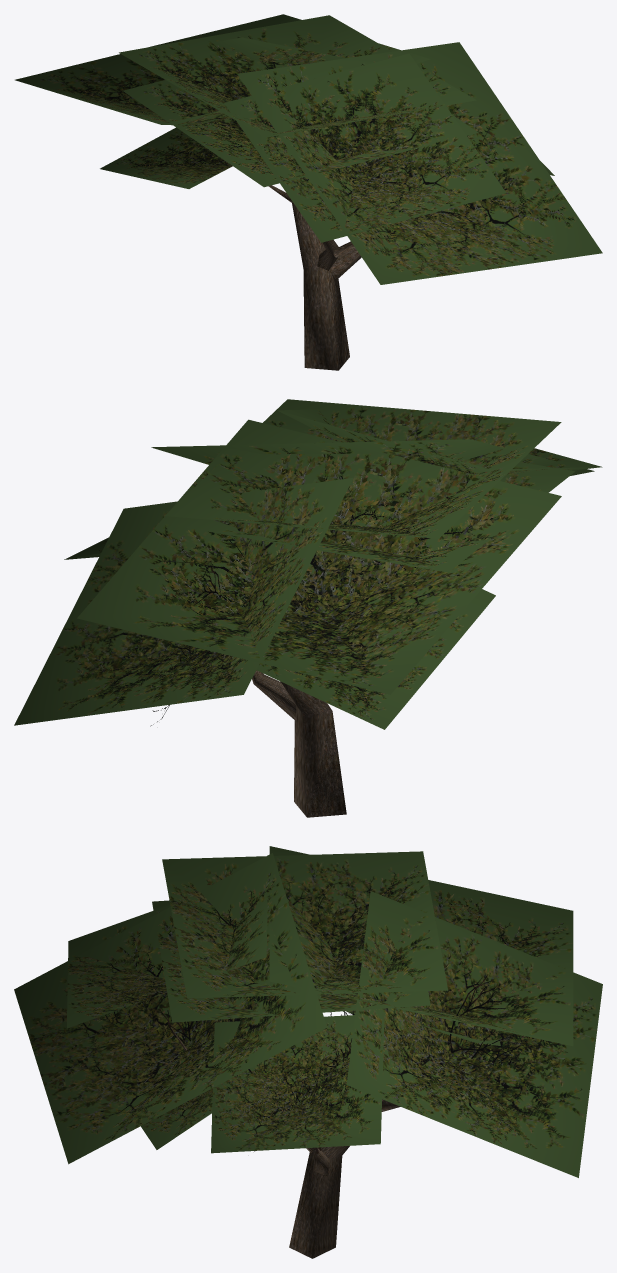
File: decd_mkpodtree_l1.fbx
The picture shows the model from 3 angles, top to bottom: view 1: azimuth 30°, elevation 25°; view 2: azimuth 150°, elevation 25°; view 3: azimuth 270°, elevation 25°; orthographic projection. The views are drawn at different scales.
Visible parts, largest first — view 1: mesh_node; view 2: mesh_node; view 3: mesh_node.
Boxes of the visible parts, left/top/right/bottom form: mesh_node: left=15, top=14, right=602, bottom=370; mesh_node: left=14, top=399, right=602, bottom=817; mesh_node: left=14, top=846, right=602, bottom=1258.
Size of the model in its own units: 12 by 10.1 by 15.87.
